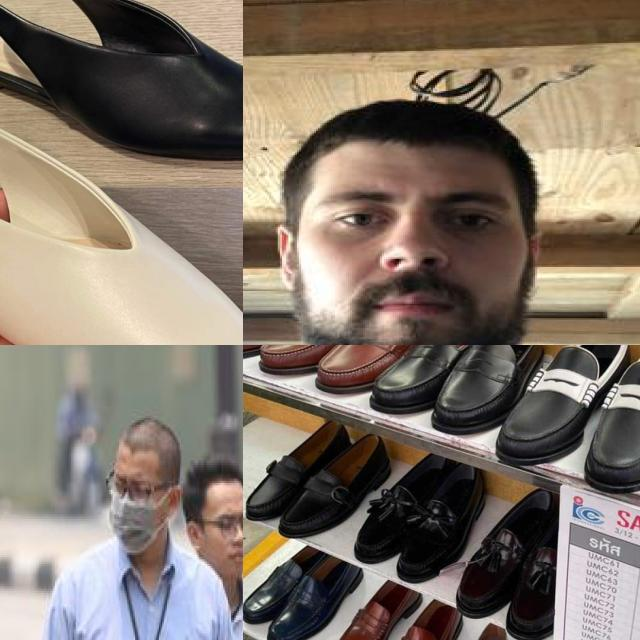No_Ear-Protection: (266, 218, 308, 298)
No_Glasses: (301, 172, 527, 250)
Sandals: (0, 48, 243, 345), (0, 0, 243, 180), (482, 345, 640, 505)
face_mask: (108, 472, 165, 555)
face_nomask: (305, 172, 524, 345), (200, 503, 243, 577)
glasses: (104, 473, 158, 509), (216, 508, 243, 542)
head_nohelmet: (288, 94, 567, 176), (116, 409, 176, 467), (186, 451, 243, 503)
person: (243, 86, 640, 345), (30, 415, 237, 640), (186, 422, 243, 640)
